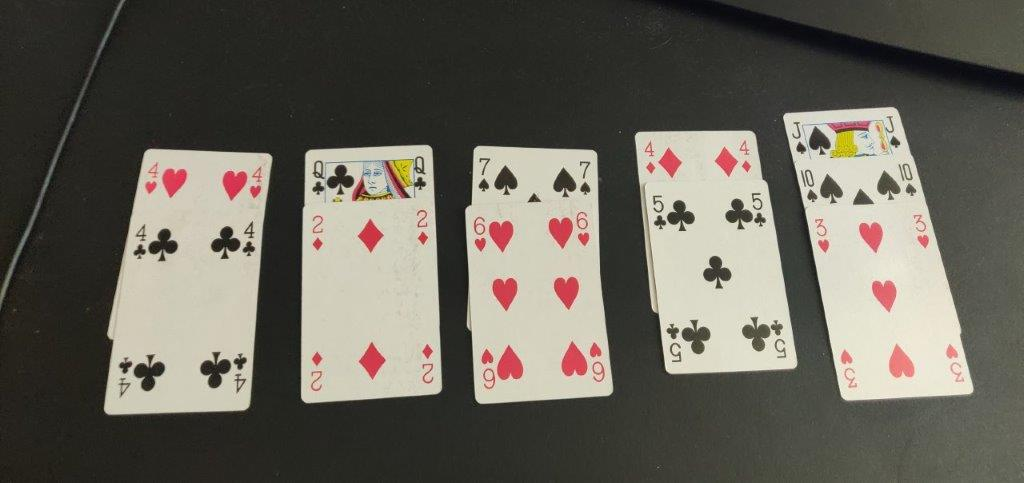10S: (795, 164, 822, 204), (897, 160, 921, 197)
2D: (412, 204, 433, 248), (307, 213, 328, 253)
3H: (908, 206, 935, 250), (811, 214, 834, 259)
4C: (129, 222, 151, 263), (241, 218, 259, 260)
4D: (640, 137, 659, 176), (737, 139, 755, 177)
4H: (139, 158, 162, 201), (247, 162, 266, 203)
5C: (749, 191, 769, 230), (649, 193, 668, 232)
6H: (468, 211, 489, 252), (574, 209, 594, 250)
7S: (474, 154, 493, 196), (578, 159, 594, 195)
JS: (882, 113, 905, 152), (788, 119, 808, 158)
QC: (306, 158, 328, 201), (410, 152, 428, 194)
